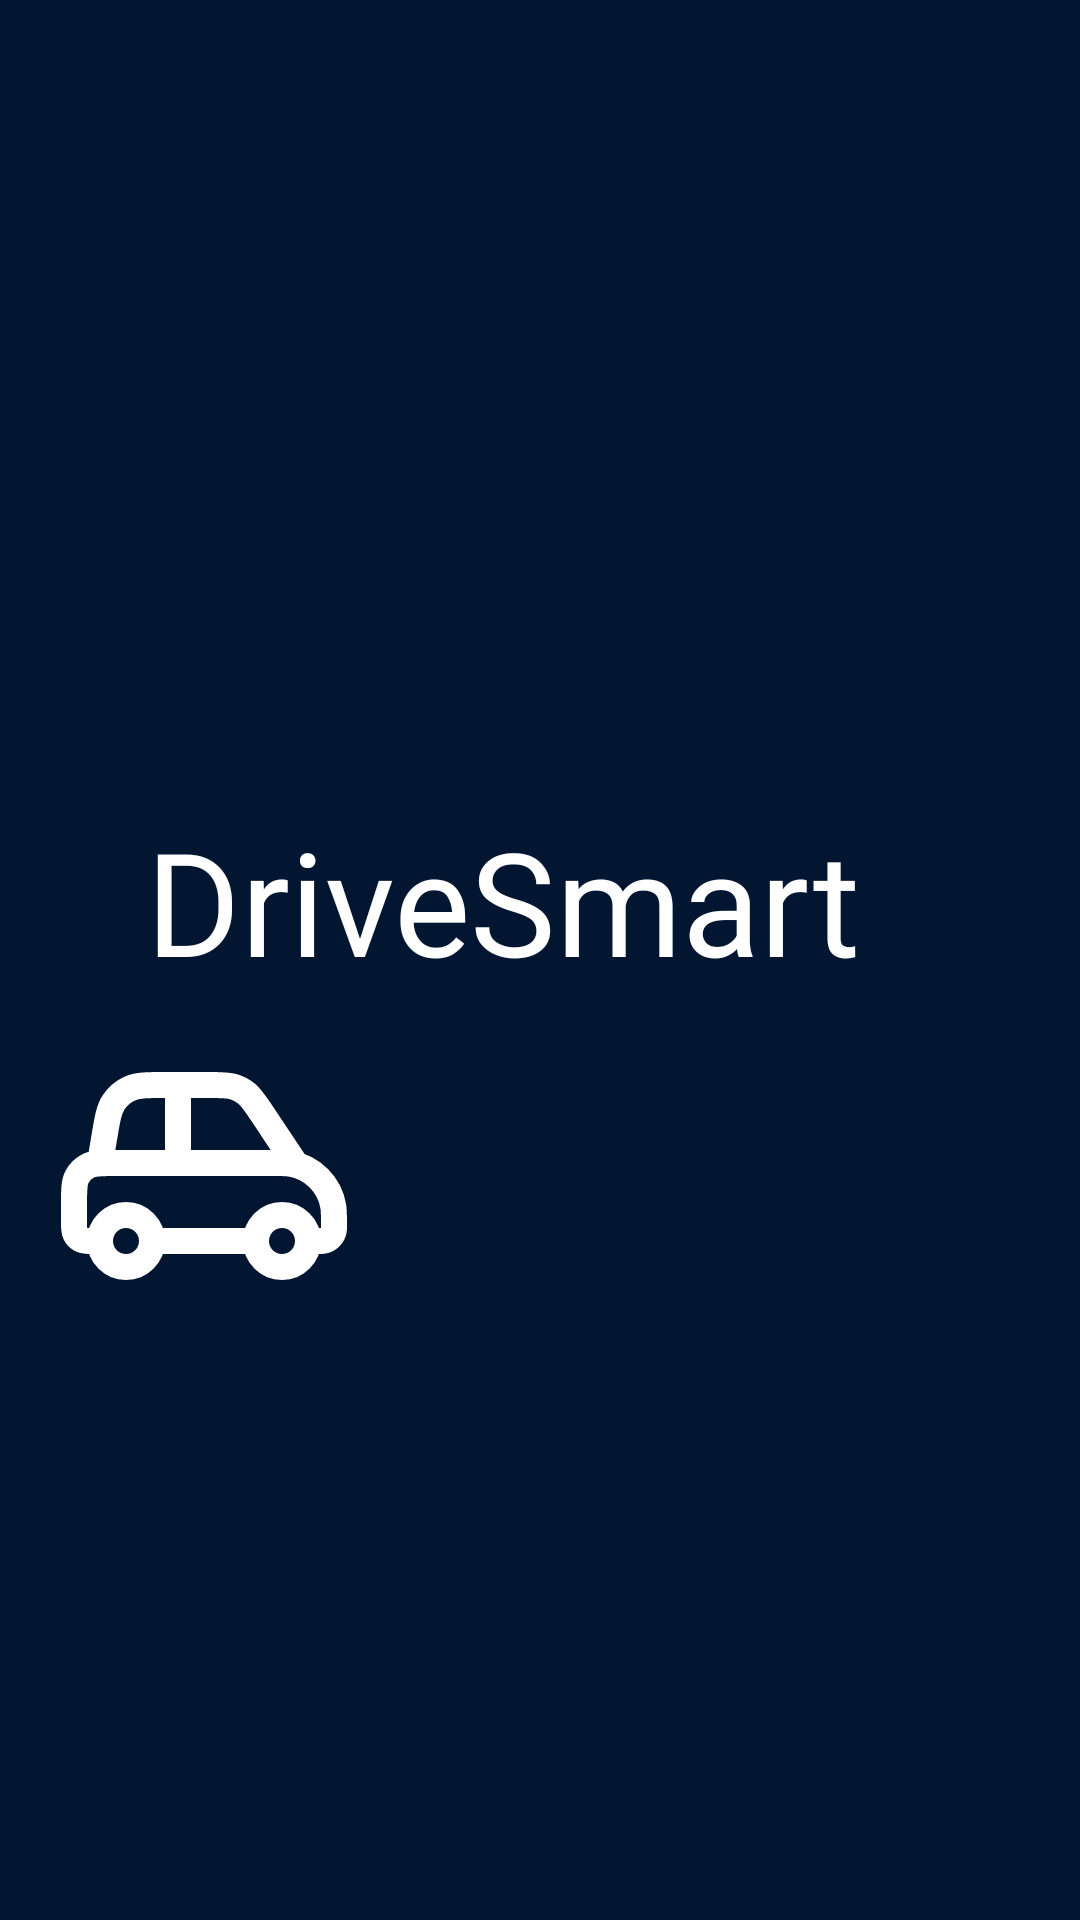

Where to tap for icons on this 1080*1920 app screen, as (x,y):
car: (204,1176)
